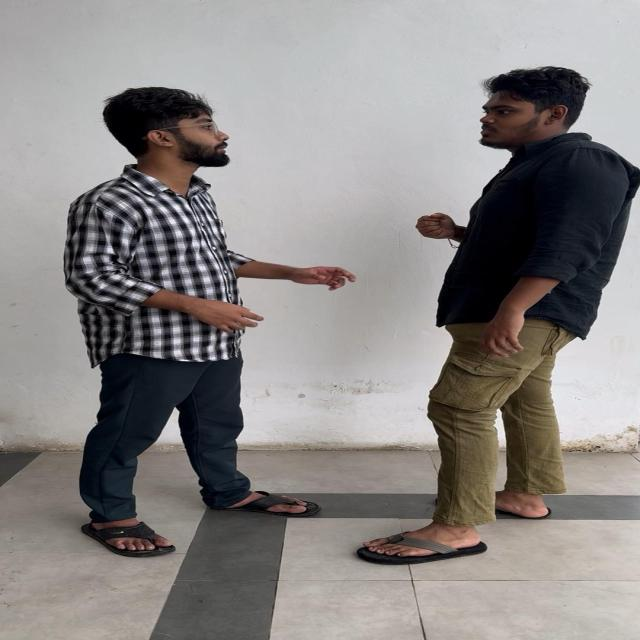fight: (62, 31, 640, 578)
